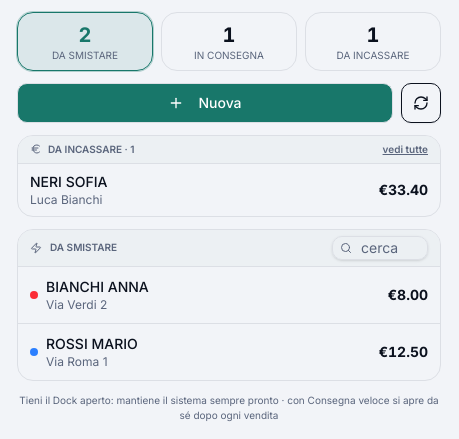
Test: Dock: i contatori sono filtri veri › "Da incassare" apre le consegne in attesa di incasso e conferma da li
Later steps or results of the test are not shown.
Click the button with test id "dock-contatore-incassare".
click(373, 41)  # box x1=305 y1=12 x2=441 y2=70
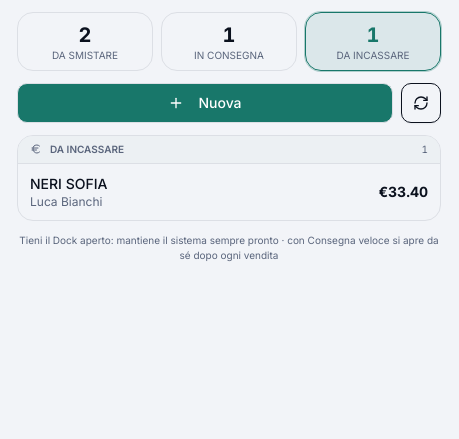
Expected: the element with test id "dock-elenco-incassare" shows "NERI SOFIA", x1=18 y1=162 x2=440 y2=220
Expected: the element with test id "dock-elenco-incassare" shows "33.40", x1=18 y1=162 x2=440 y2=220
